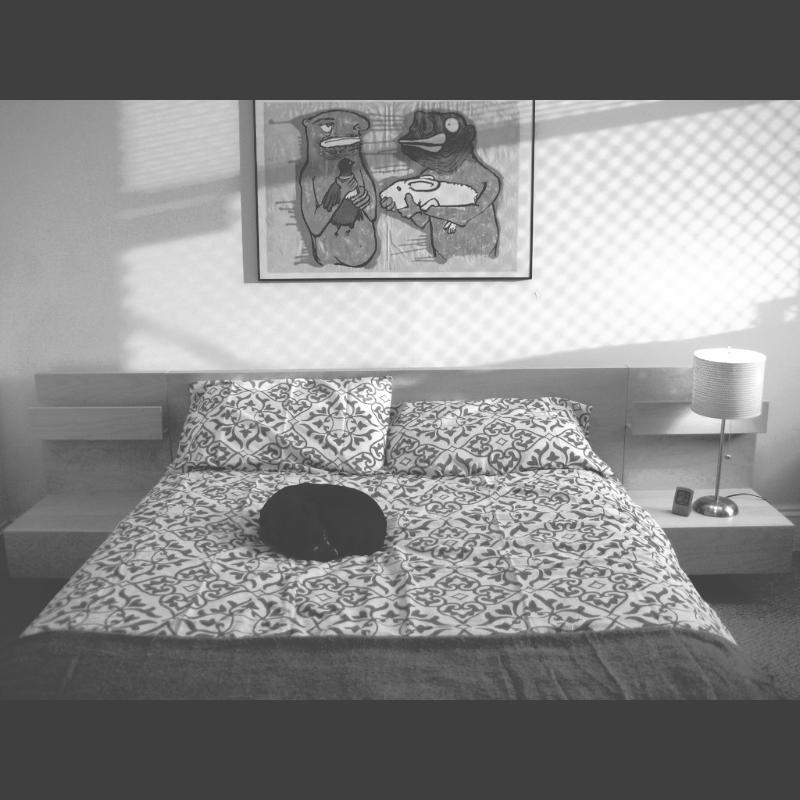pillow: (169, 377, 391, 473), (391, 399, 611, 481)
